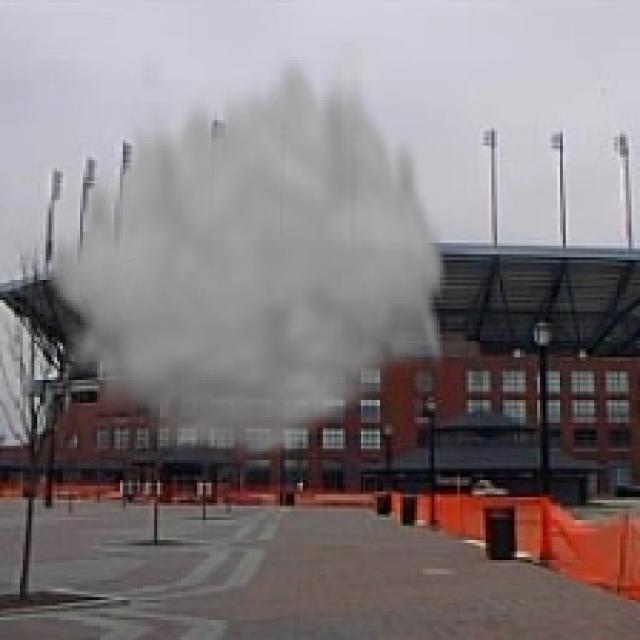Smoke: (39, 43, 452, 466)
